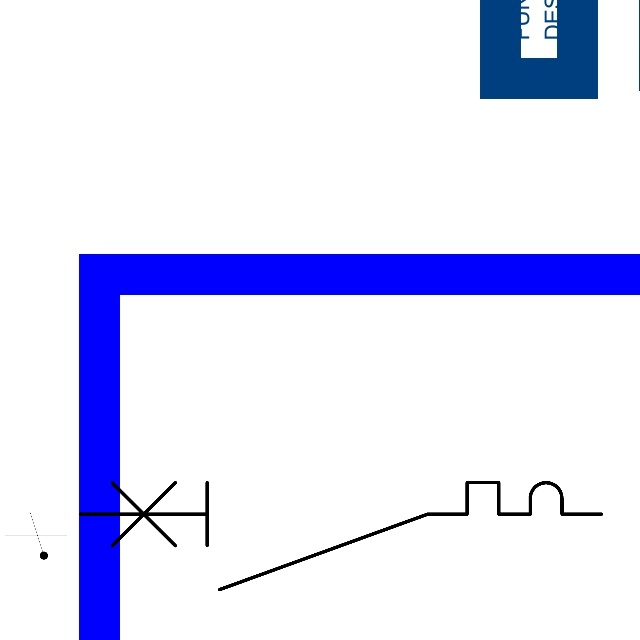interruptor_termomagnetico: (67, 469, 615, 603)
